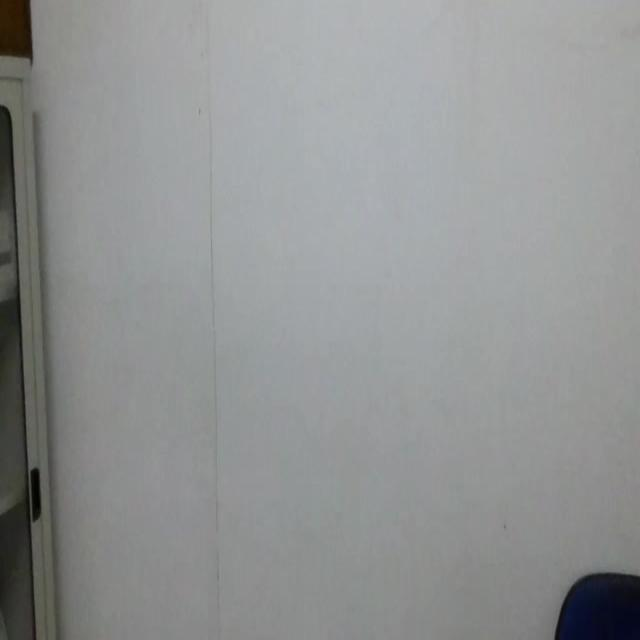Crack: (196, 0, 226, 640)
